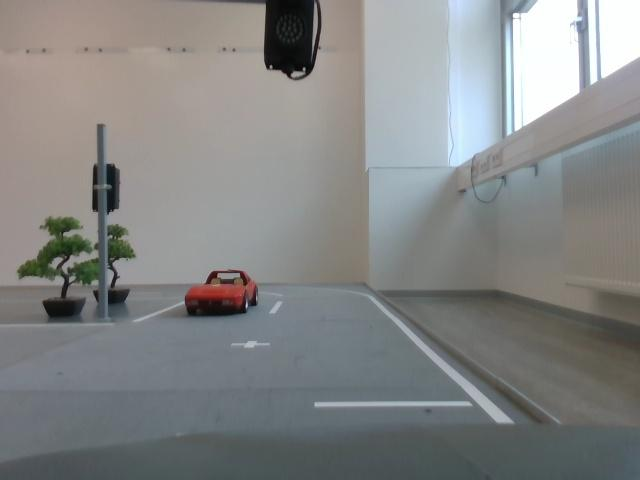car: (180, 267, 271, 322)
potted plant: (17, 212, 100, 322), (80, 223, 139, 306)
traffic light: (267, 3, 313, 81), (90, 165, 121, 216)
